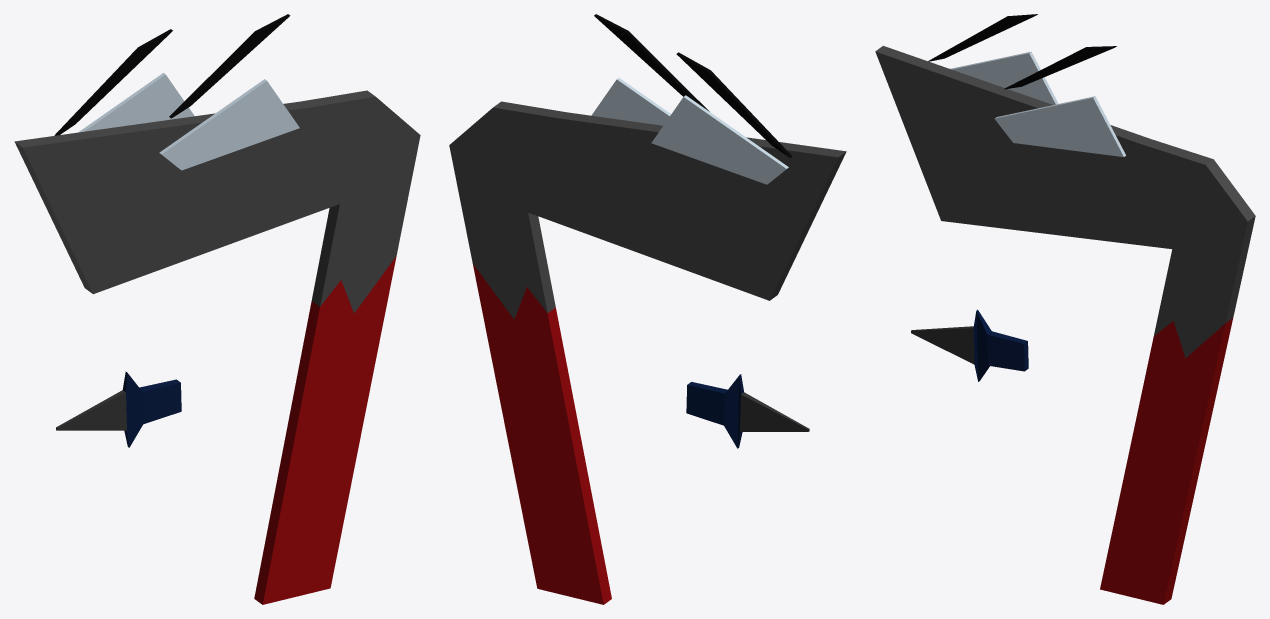
3 views of the same model, side by side, from view 1: azimuth 30°, elevation 25°; view 2: azimuth 150°, elevation 25°; view 3: azimuth 330°, elevation 25° (orthographic). The views are drawn at different scales.
Visible parts, largest first — view 1: 7, 3.002, 3.003, knife; view 2: 7, 3.003, knife, 3.002; view 3: 7, 3.002, knife, 3.003.
Boxes of the visible parts, x1,y1,x2,y2 form: 7: [14, 90, 420, 604]; 3.002: [159, 14, 299, 170]; 3.003: [54, 29, 194, 135]; knife: [56, 371, 181, 447]; 7: [449, 101, 846, 604]; 3.003: [651, 52, 792, 184]; knife: [686, 374, 809, 448]; 3.002: [591, 14, 709, 125]; 7: [875, 45, 1255, 604]; 3.002: [994, 46, 1125, 156]; knife: [911, 309, 1028, 381]; 3.003: [928, 14, 1058, 104].
Size of the model in its own units: 153 by 216 by 12.56.
